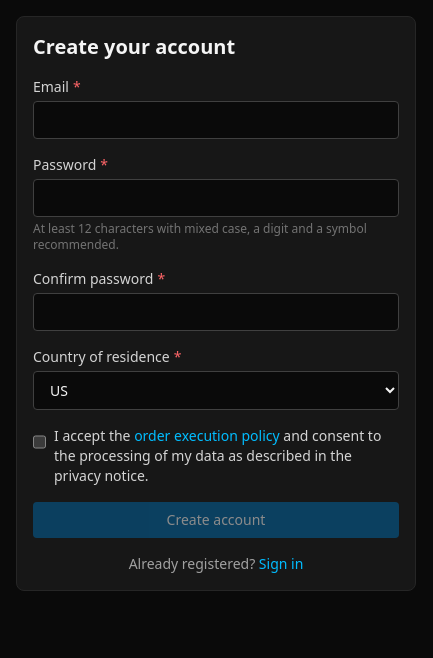
Test case: RegisterPage › shows a mismatch error on divergent confirmation
In the password field labelled "Password*": (216, 198) [33, 179, 399, 217], type "LongPassw0rd!xyz"
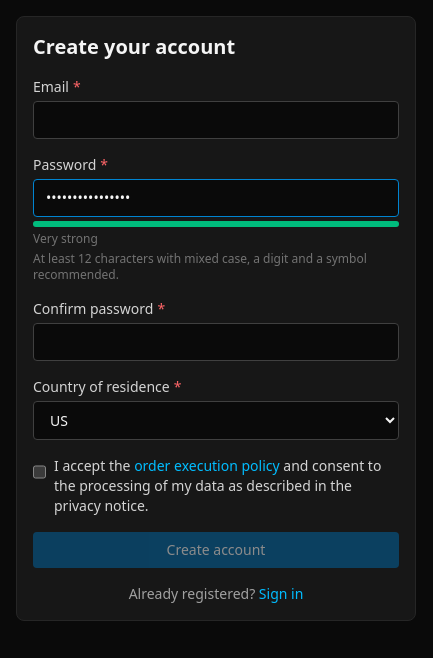
In the password field labelled "Confirm password*": (216, 342) [33, 323, 399, 361], type "different"
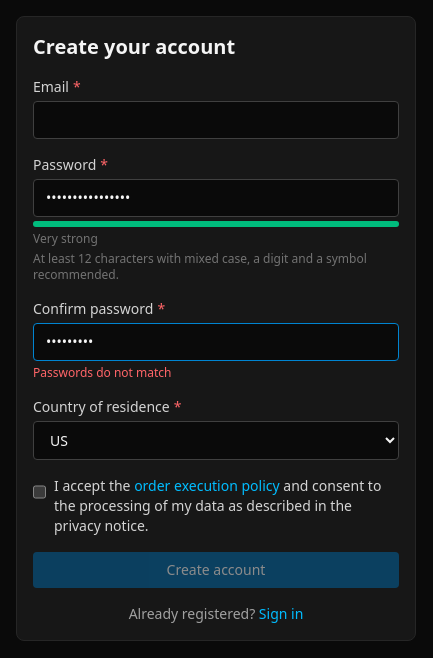
Expected: the message "Passwords do not match" is shown, [33, 364, 172, 381]
